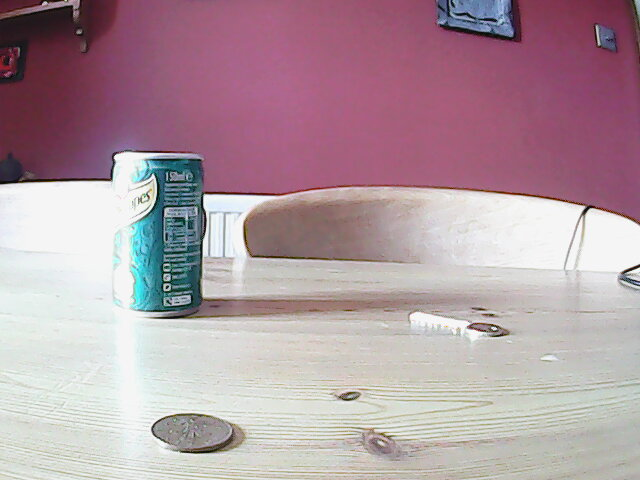Can: (107, 149, 211, 318)
Coin: (149, 408, 237, 455)
Key: (401, 307, 507, 342)
